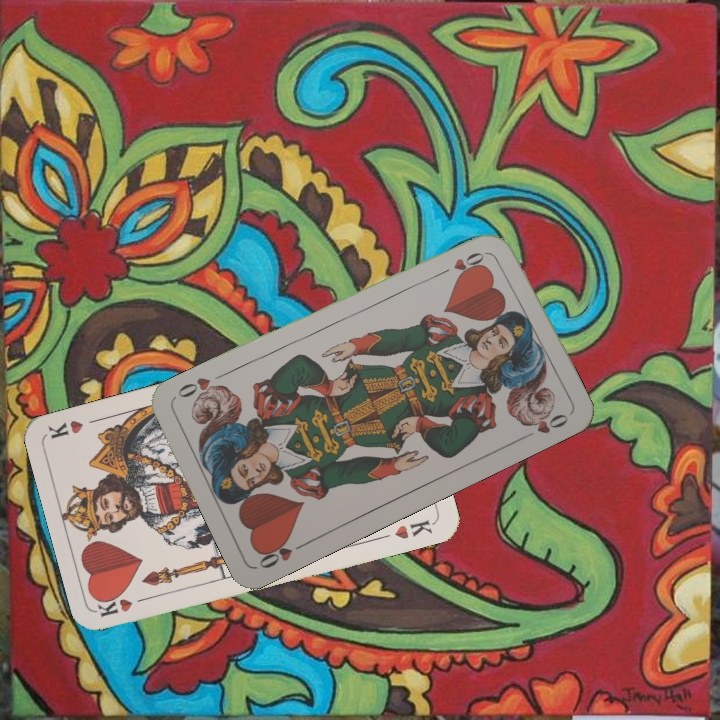HK: (95, 592, 154, 619)
HO: (254, 535, 310, 571), (434, 247, 491, 278)
